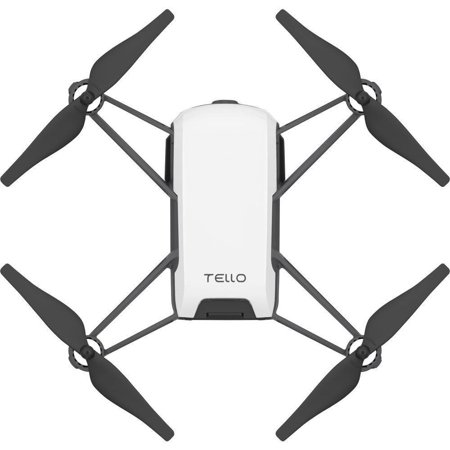drone: (2, 9, 449, 441)
